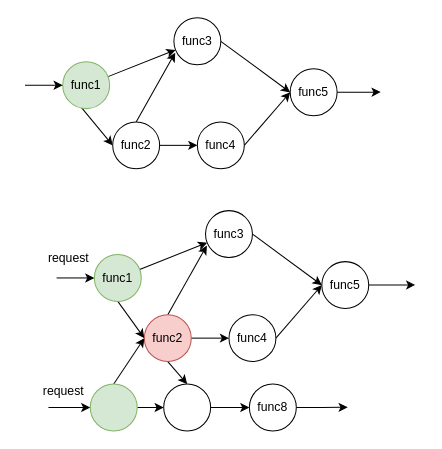
Some shapes in this 442 by 449 pixel diagram are drawn without their labels. The shapes that lost their labels are listed below. From the top down, each one's centre as x and y in pixels, then its label:
At (113,407): "func6".
At (187,407): "func7".
